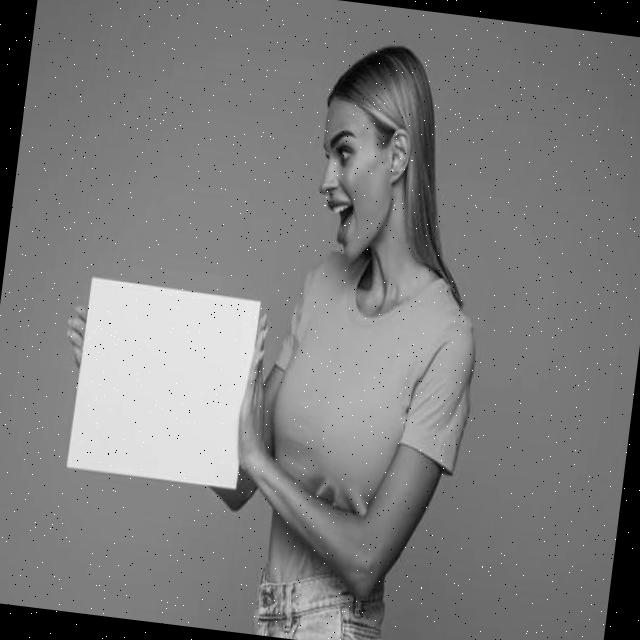Surprised: (310, 98, 404, 269)
